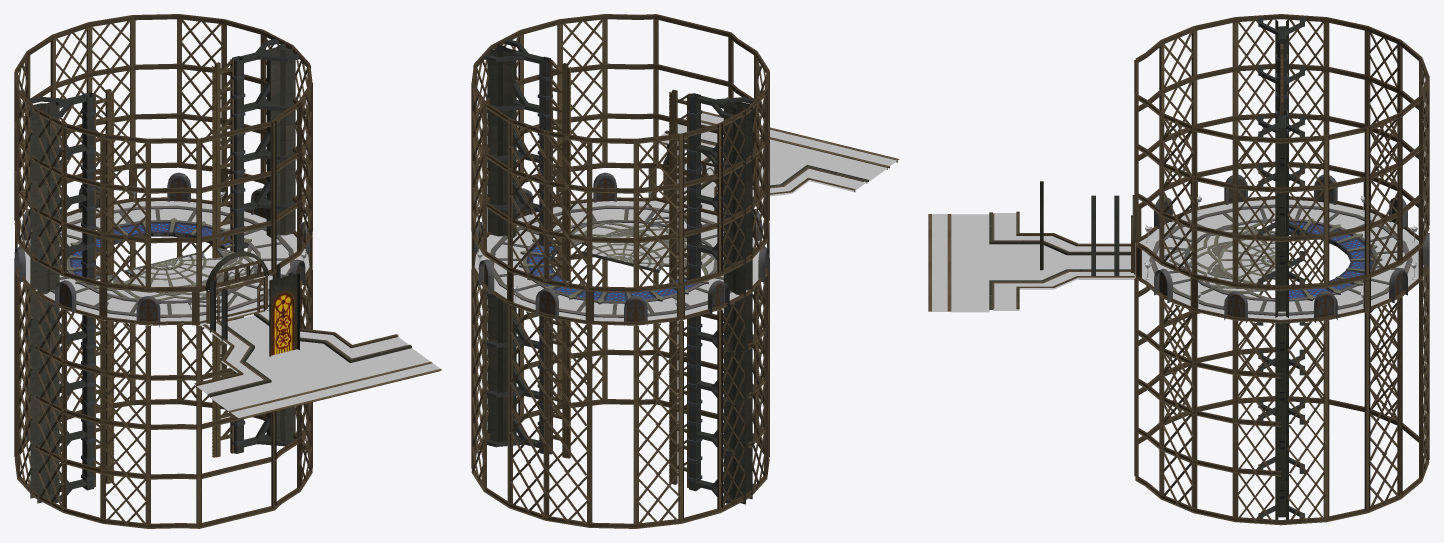
Rendered from hd03_slt.FBX.
3 views of the same model, side by side, from view 1: azimuth 30°, elevation 25°; view 2: azimuth 150°, elevation 25°; view 3: azimuth 270°, elevation 25° (orthographic).
Visible parts, largest first — view 1: zhuzi, Block1_TowerOfChaos_F001, pan01, Object001, men, diban, WallPattern_TowerOfChaos001; view 2: zhuzi, Block1_TowerOfChaos_F001, pan01, Object001, men, diban; view 3: zhuzi, Block1_TowerOfChaos_F001, pan01, men, diban.
Boxes of the visible parts, x1,y1,x2,y2 form: zhuzi: (14,14,441,528); Block1_TowerOfChaos_F001: (24,201,440,417); pan01: (50,205,294,317); Object001: (81,66,258,481); men: (14,172,309,327); diban: (195,310,408,394); WallPattern_TowerOfChaos001: (269,273,299,356); zhuzi: (471,14,899,528); Block1_TowerOfChaos_F001: (474,113,897,321); pan01: (489,205,732,317); Object001: (537,67,714,482); men: (474,172,769,325); diban: (651,133,866,201); zhuzi: (928,14,1429,525); Block1_TowerOfChaos_F001: (932,199,1423,319); pan01: (1149,204,1412,316); men: (1154,174,1429,322); diban: (992,213,1134,310).
Bounding box in the file's own units: 3708 × 5364 × 6255.
